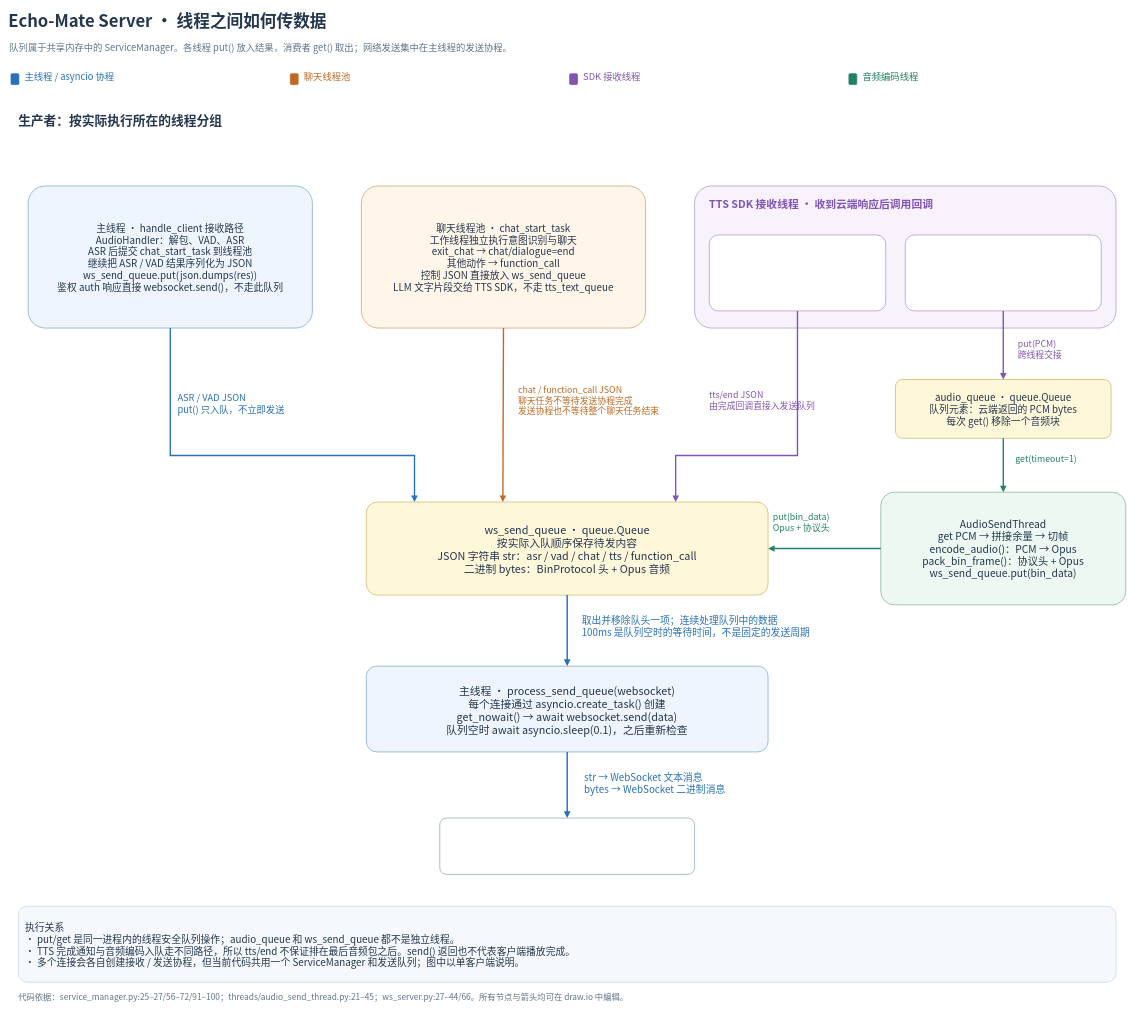
Image size: 1134x1021. Some labels were removed from this diagram. The centre of each missing label's shape, as x and y in pixels:
on_complete 回调 _tts_on_complete() tts/end 转 JSON 字符串 put 到 ws_send_queue: point 797,272
on_data 回调 _tts_on_data(data) 收到 PCM bytes audio_queue.put(data): point 1003,272
客户端进程（Server 进程之外） 接收 JSON 或二进制音频: point 567,846
